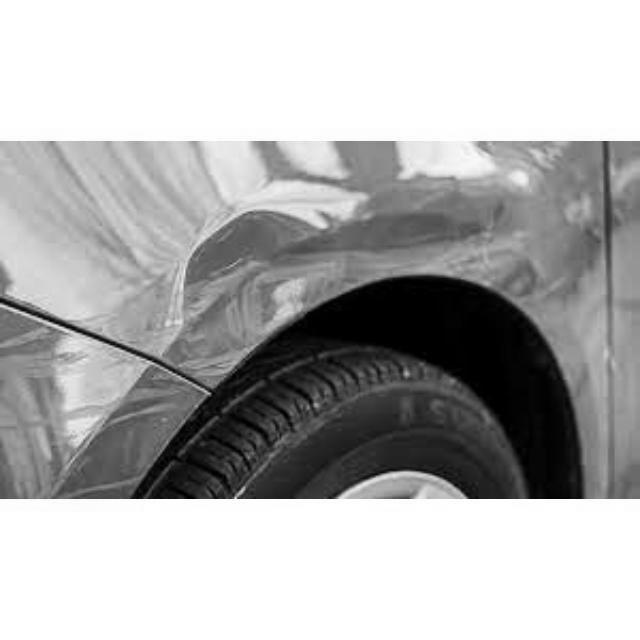fender-dent: (120, 141, 604, 399)
